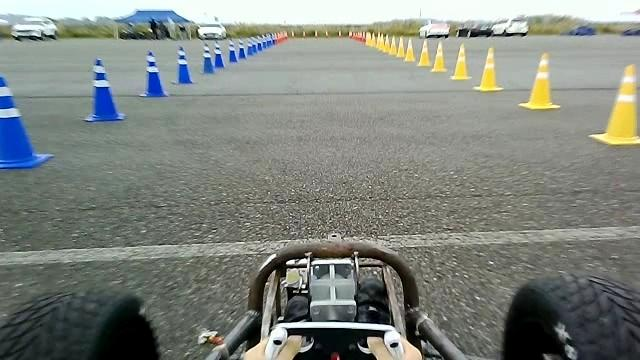blue cone: (0, 74, 54, 169), (83, 57, 126, 121), (138, 50, 168, 97), (170, 45, 194, 85), (201, 42, 215, 74), (213, 40, 224, 68), (228, 38, 238, 62), (237, 39, 246, 58)
yellow cone: (588, 63, 639, 145), (518, 51, 560, 109), (472, 46, 503, 91), (449, 42, 472, 80), (430, 40, 447, 72), (417, 38, 430, 66), (403, 37, 415, 62), (396, 35, 405, 58), (388, 35, 397, 55), (381, 34, 389, 53)
